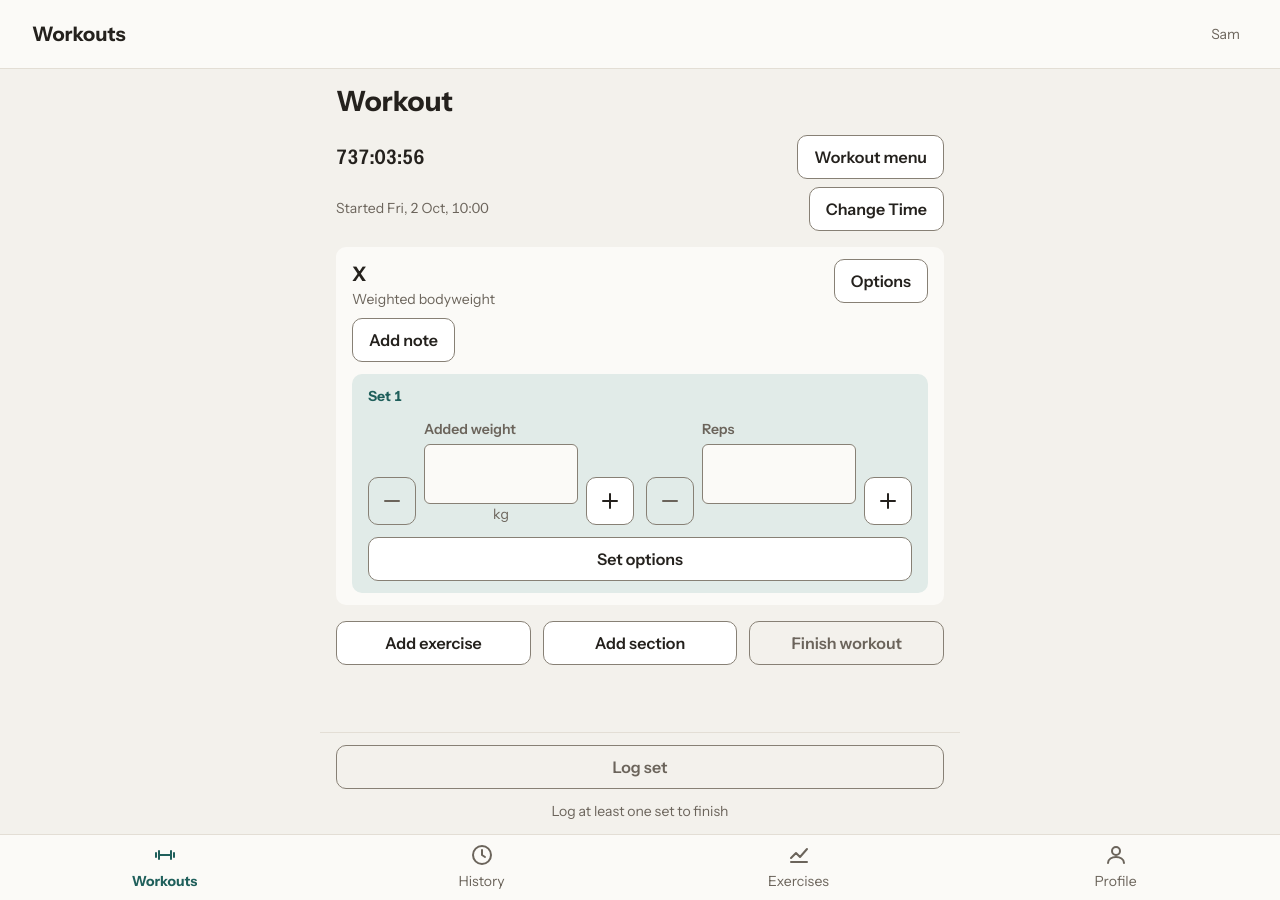
it: AC21 — entry row fields per modality › weighted_bodyweight shows exactly its measures and no forbidden one
Expected: the heading "Workout" is shown, [336,84,453,118]
Click the button "Set options". click: (640, 559)
box: [368,537,912,581]
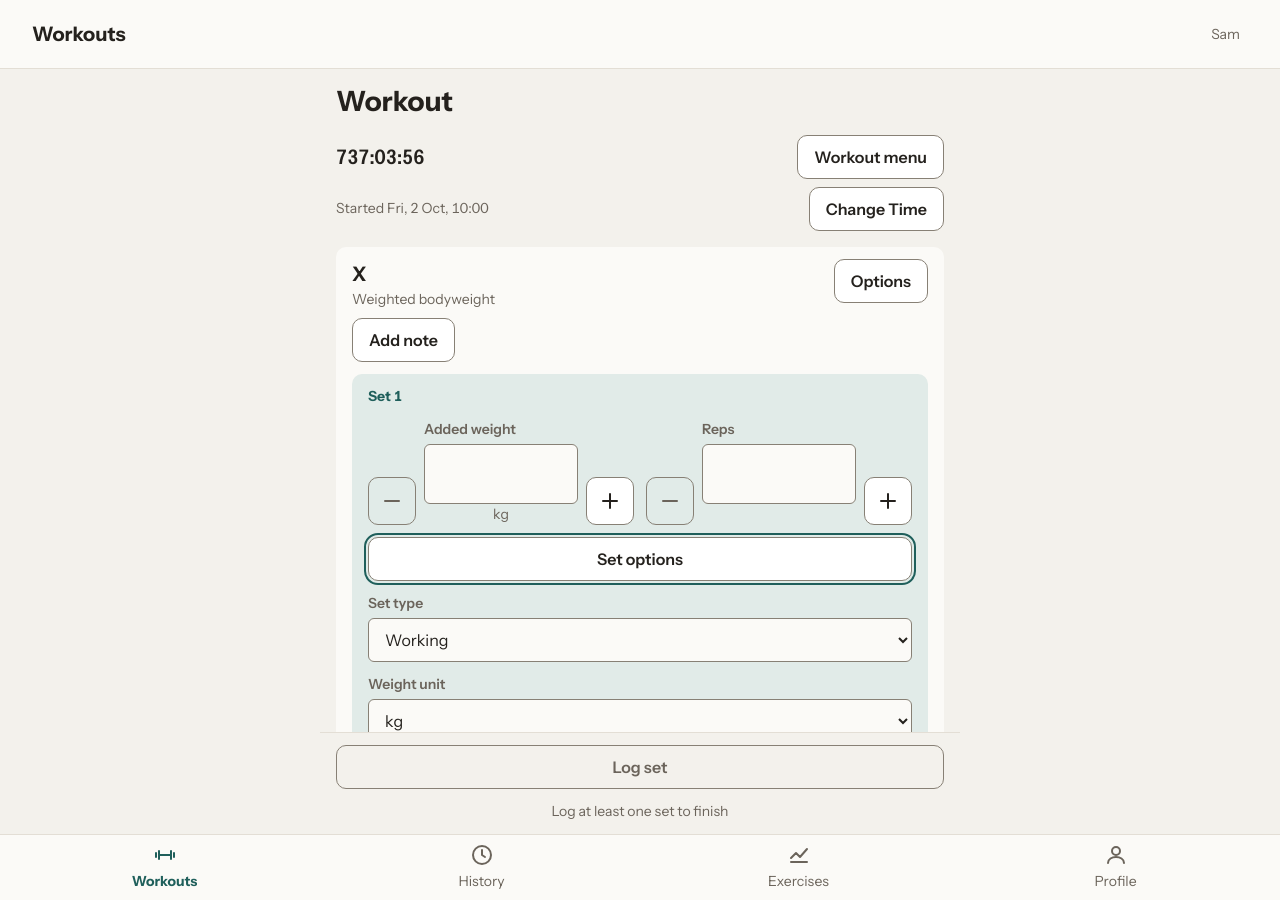
Expected: the field labelled "Added weight" is shown, [424,444,578,504]
Now the dropdown labelled "Weight unit" is shown, box [368,699,912,743]
